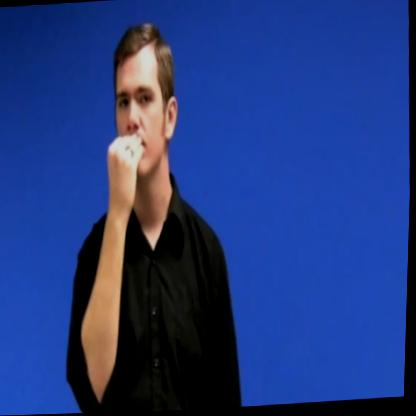Food: (95, 1, 197, 219)
